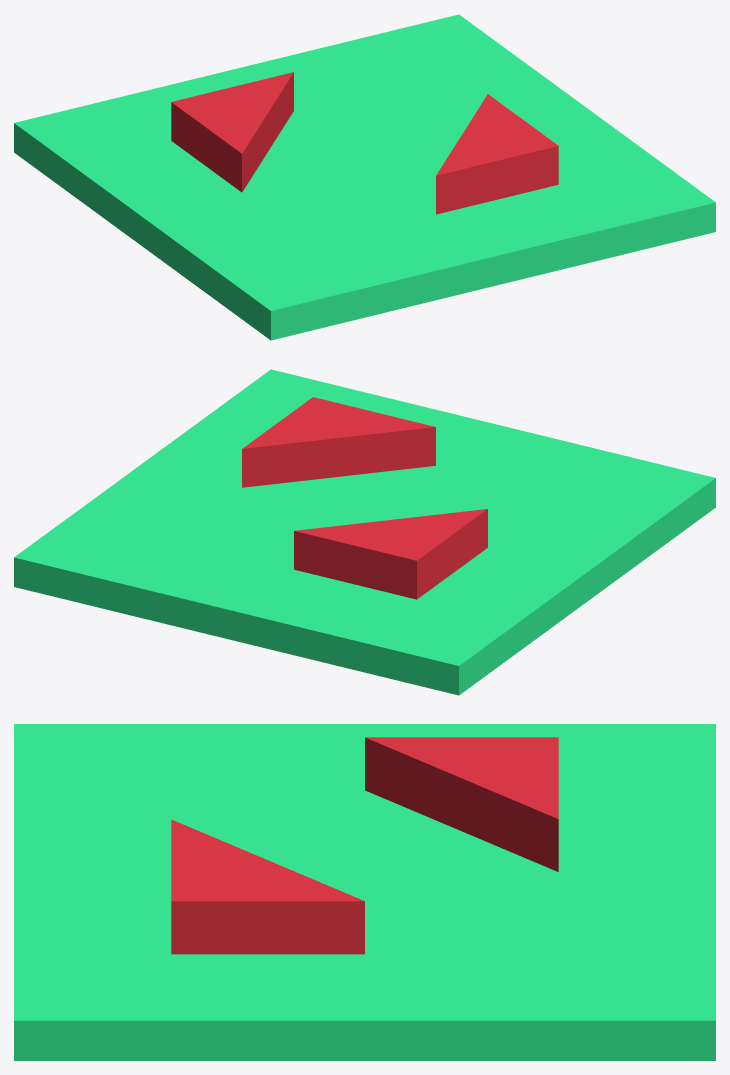
File: obstacleTriangle.fbx
The picture shows the model from 3 angles, top to bottom: view 1: azimuth 30°, elevation 25°; view 2: azimuth 150°, elevation 25°; view 3: azimuth 270°, elevation 25°; orthographic projection. The views are drawn at different scales.
Parts seen in each view (by area): view 1: obstacleTriangle; view 2: obstacleTriangle; view 3: obstacleTriangle.
Part boxes in pixels (x1,y1,x2,y2): obstacleTriangle: [14, 14, 715, 340]; obstacleTriangle: [14, 369, 715, 695]; obstacleTriangle: [14, 724, 715, 1060].
Size of the model in its own units: 10 by 1.47 by 10.
